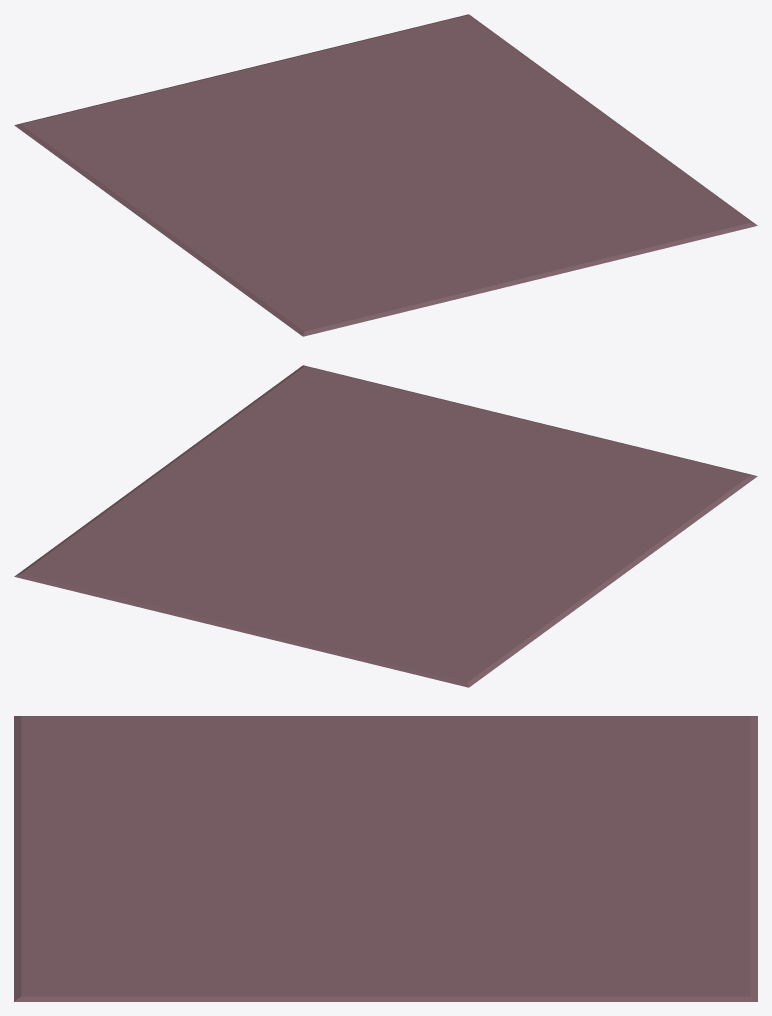
File: Rug.fbx
3 renders of one model, top to bottom at view 1: azimuth 30°, elevation 25°; view 2: azimuth 150°, elevation 25°; view 3: azimuth 270°, elevation 25°, orthographic. The views are drawn at different scales.
Parts seen in each view (by area): view 1: Rug; view 2: Rug; view 3: Rug.
Boxes of the visible parts, x1,y1,x2,y2 form: Rug: (14,14,757,336); Rug: (14,365,757,687); Rug: (14,716,757,1001).
Size of the model in its own units: 89.35 by 0.3672 by 98.32.
